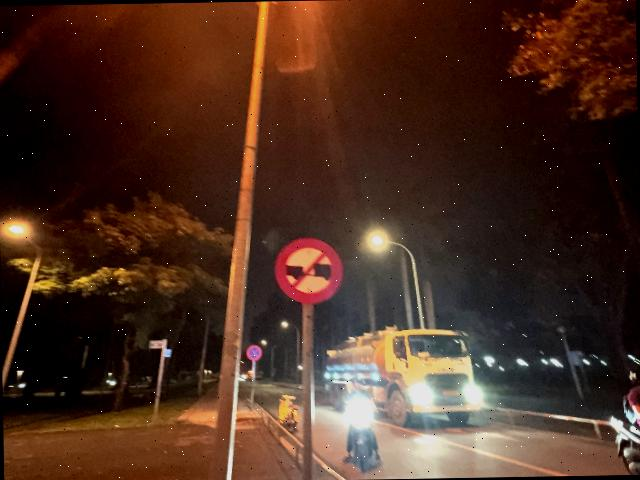cam-xe-somi-romooc: (273, 237, 344, 304)
